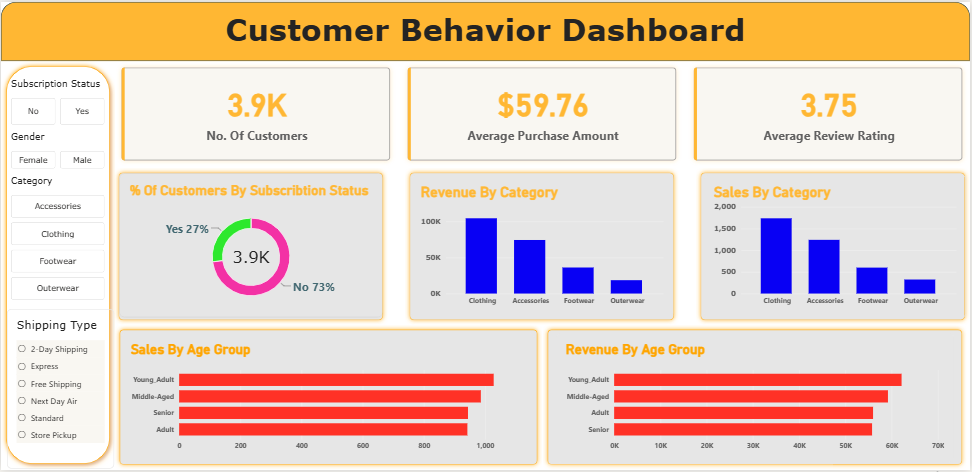

This screenshot's page, from the dashboard's own definition file:
{"tool":"powerbi","page":{"name":"Page 1","canvas":[1700,820],"ordinal":0},"visuals":[{"type":"cardVisual","fields":{"Data":["public customer.No. Of Customers","public customer.Average Purchase Amount","public customer.Average Review Rating"]},"box":[200,103.9,1500,186.3],"z":0},{"type":"shape","box":[0,0,1700,103.8],"z":1000},{"type":"textbox","box":[0,0,1700,103.8],"z":2000},{"type":"shape","box":[198.8,291.8,480,275],"z":3000},{"type":"donutChart","title":"% Of  Customers By Subscribtion Status","fields":{"Category":["public customer.subscription_status"],"Y":["CountNonNull(public customer.customer_id)"]},"box":[208.8,301.9,460,250],"z":4000},{"type":"shape","box":[708.5,291.8,480,275],"z":5000},{"type":"shape","box":[1220,291.8,480,275],"z":6000},{"type":"clusteredColumnChart","title":"Revenue By Category","fields":{"Category":["public customer.category"],"Y":["Sum(public customer.purchase_amount)"]},"box":[718.5,304.3,460,250],"z":7000},{"type":"clusteredColumnChart","title":"Sales By Category","fields":{"Category":["public customer.category"],"Y":["CountNonNull(public customer.customer_id)"]},"box":[1232.9,304.3,460,250],"z":8000},{"type":"shape","box":[0,103.9,200,715.7],"z":9000},{"type":"advancedSlicerVisual","fields":{"Values":["public customer.subscription_status"]},"box":[17.6,133.3,164.7,82.4],"z":10000},{"type":"advancedSlicerVisual","fields":{"Values":["public customer.gender"]},"box":[17.6,225.5,164.7,66.7],"z":10001},{"type":"advancedSlicerVisual","fields":{"Values":["public customer.category"]},"box":[17.6,303.9,164.7,221.6],"z":10002},{"type":"listSlicer","fields":{"Values":["public customer.shipping_type"]},"box":[9.8,539.2,188.2,280.4],"z":10003},{"type":"shape","box":[951,566.7,743.1,252.9],"z":10005},{"type":"shape","box":[200,566.7,749,252.9],"z":10006},{"type":"clusteredBarChart","title":"Revenue By Age Group","fields":{"Category":["public customer.age_group"],"Y":["Sum(public customer.purchase_amount)"]},"box":[974.5,580.4,698,227.5],"z":10007},{"type":"clusteredBarChart","title":"Sales By Age Group","fields":{"Category":["public customer.age_group"],"Y":["CountNonNull(public customer.customer_id)"]},"box":[209.8,580.4,725.5,227.5],"z":10008}]}

Visuals, with their boxes in screenshot pixels (x1, y1, x2, y2), scaled from the page's 1700x820 canvas onto the 972x473 screenshot:
cardVisual - public customer.No. Of Customers x public customer.Average Purchase Amount: (114,60,971,167)
shape: (0,0,971,60)
textbox: (0,0,971,60)
shape: (114,168,388,327)
"% Of  Customers By Subscribtion Status" donutChart: (119,174,382,318)
shape: (405,168,680,327)
shape: (698,168,971,327)
"Revenue By Category" clusteredColumnChart: (411,176,674,320)
"Sales By Category" clusteredColumnChart: (705,176,968,320)
shape: (0,60,114,472)
advancedSlicerVisual - public customer.subscription_status: (10,77,104,124)
advancedSlicerVisual - public customer.gender: (10,130,104,169)
advancedSlicerVisual - public customer.category: (10,175,104,303)
listSlicer - public customer.shipping_type: (6,311,113,472)
shape: (544,327,969,472)
shape: (114,327,543,472)
"Revenue By Age Group" clusteredBarChart: (557,335,956,466)
"Sales By Age Group" clusteredBarChart: (120,335,535,466)
